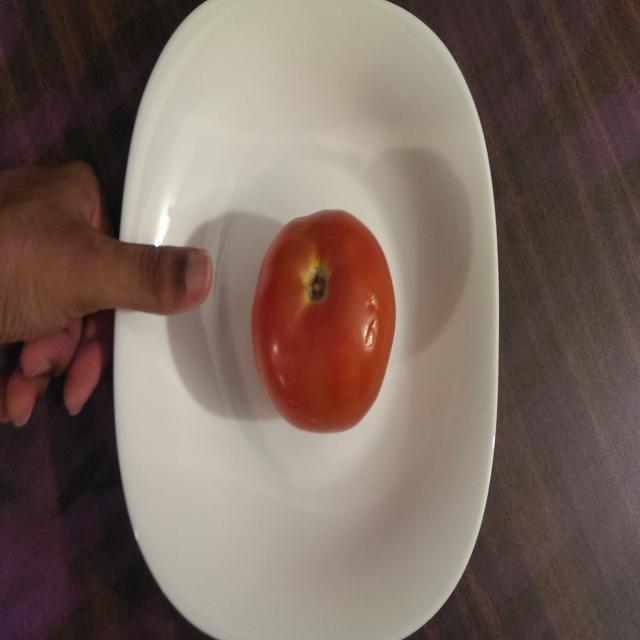tomato: (251, 208, 396, 434)
